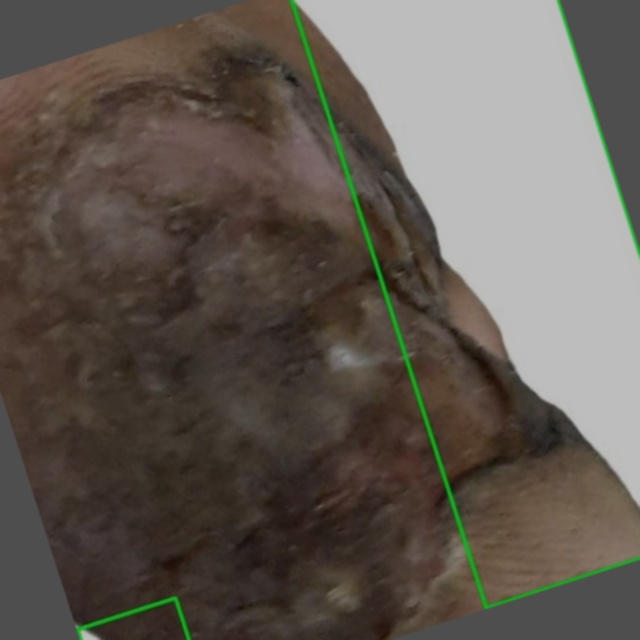Contact Dermatitis: (291, 0, 639, 608)
